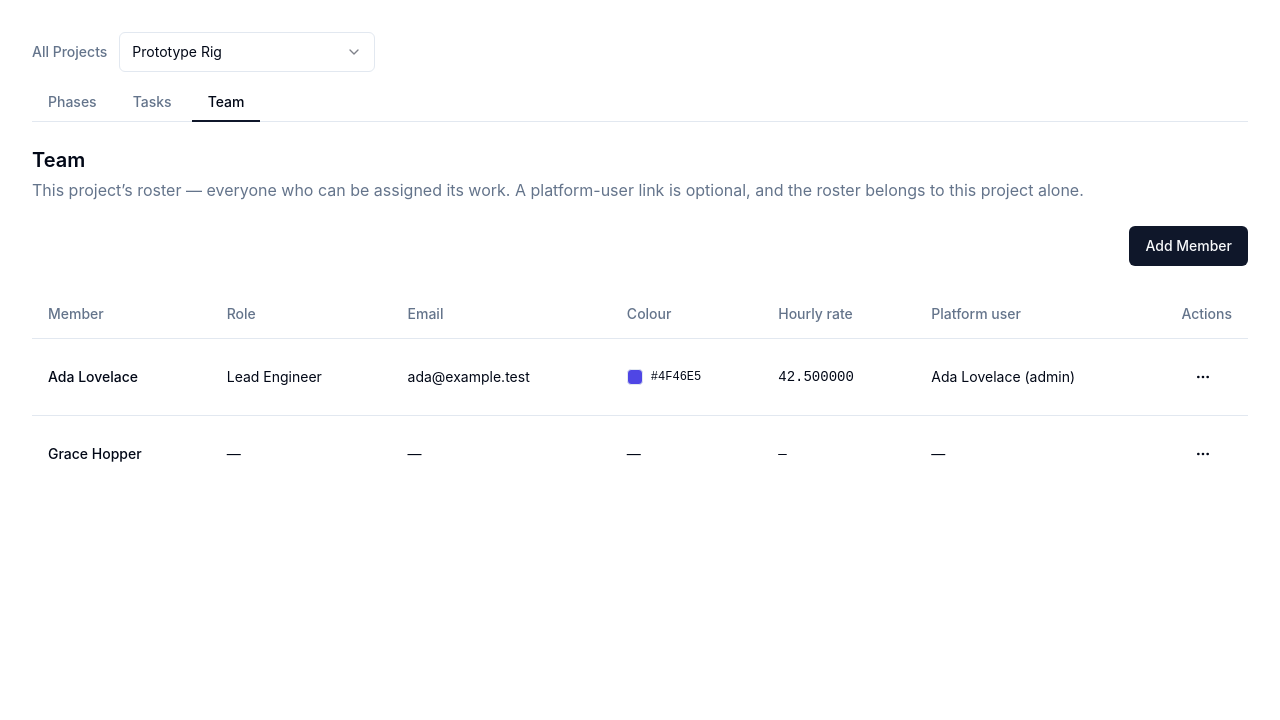
Test: Team screen › says the rate is stored but unused, and derives no cost from it
Check: the text "Ada Lovelace" is shown, box [32,338,211,415]
Click the button "Add Member": click(1189, 246) [1129,226,1248,266]
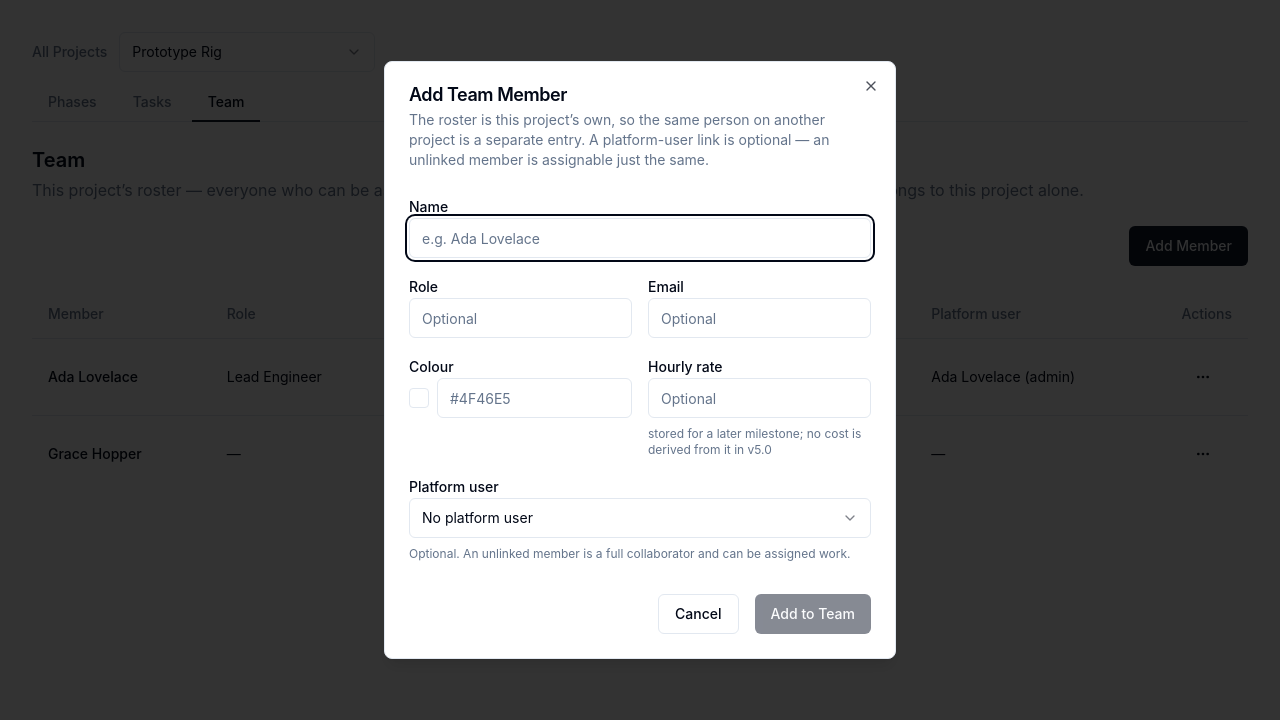
Check: the heading "Add Team Member" is shown, box [409,84,567,105]
Check: the text "stored for a later milestone; no cost is derived from it in v5.0" is shown, box [648,426,871,458]
